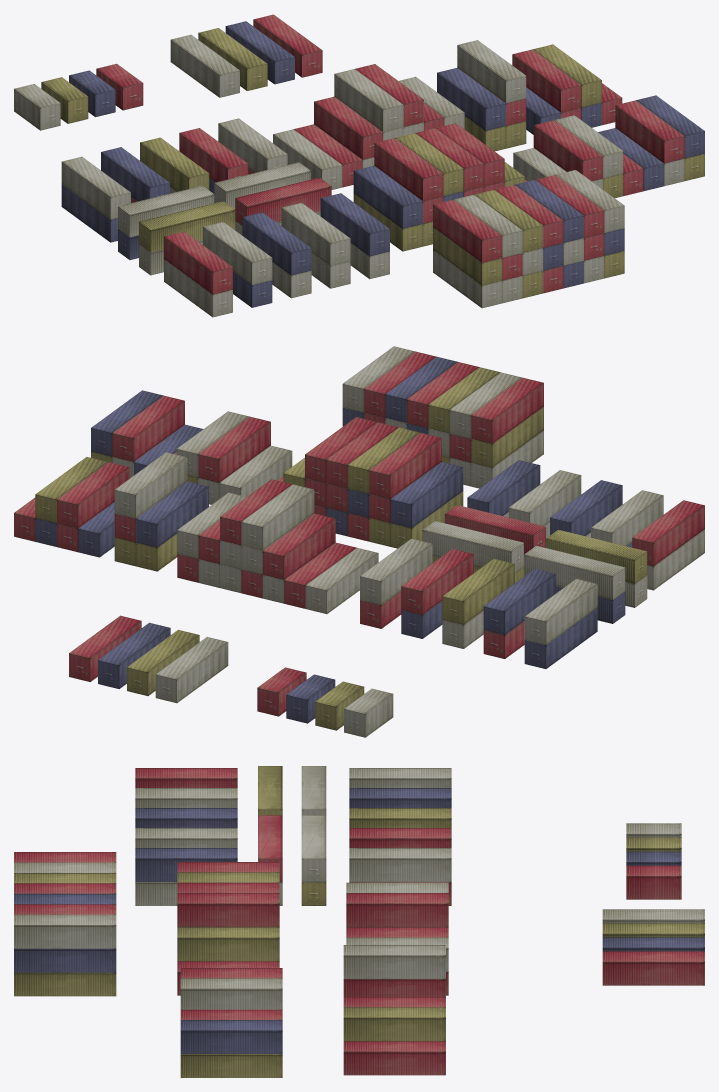
The picture shows the model from 3 angles, top to bottom: view 1: azimuth 30°, elevation 25°; view 2: azimuth 150°, elevation 25°; view 3: azimuth 270°, elevation 25°; orthographic projection. The views are drawn at different scales.
Visible parts, largest first — view 1: Object_2; view 2: Object_2; view 3: Object_2.
Boxes of the visible parts, <box> form: Object_2: <box>14,14,704,317</box>; Object_2: <box>14,346,704,737</box>; Object_2: <box>14,766,704,1077</box>.
Size of the model in its own units: 6202 by 779 by 6854.
1 material, 1 textured.
